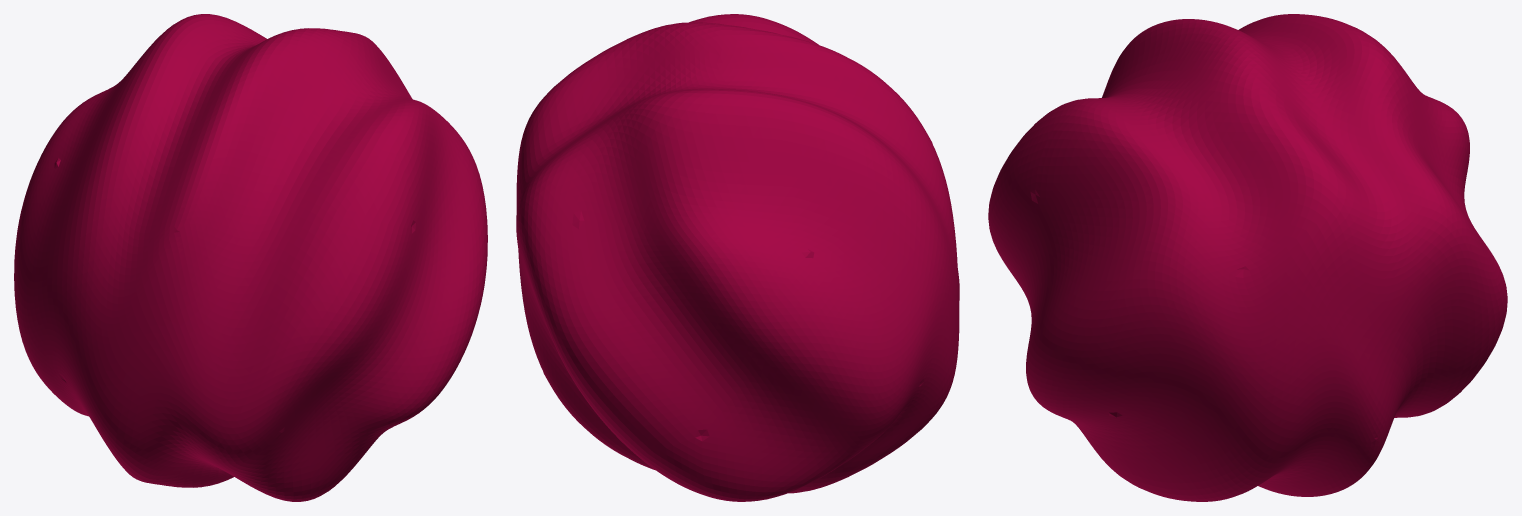
File: Blobbie-03.dae
The picture shows the model from 3 angles, left to right: view 1: azimuth 30°, elevation 25°; view 2: azimuth 150°, elevation 25°; view 3: azimuth 270°, elevation 25°; orthographic projection. The views are drawn at different scales.
Parts seen in each view (by area): view 1: Blobbie; view 2: Blobbie; view 3: Blobbie.
Boxes of the visible parts, x1,y1,x2,y2 form: Blobbie: [14, 14, 487, 501]; Blobbie: [516, 14, 959, 501]; Blobbie: [988, 14, 1507, 501].
Size of the model in its own units: 2.01 by 2.13 by 2.13.
